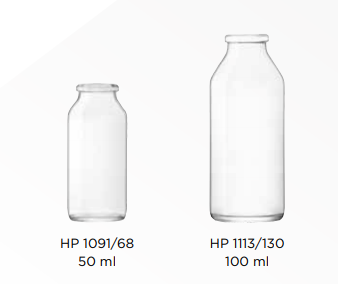glass_bottle: (206, 31, 290, 226), (60, 79, 131, 225)
